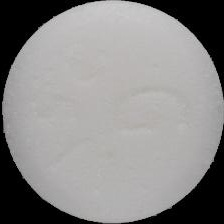0115-3511: (0, 0, 224, 224)
